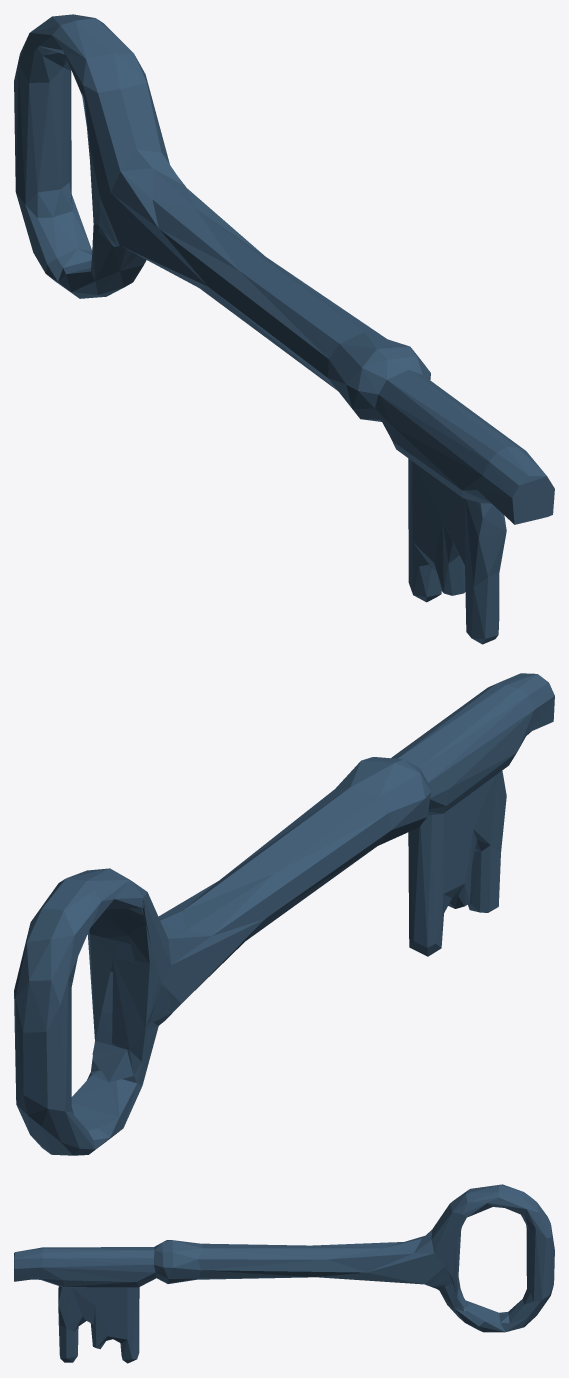
The model's file is chaveporta4.fbx.
3 renders of one model, top to bottom at view 1: azimuth 30°, elevation 25°; view 2: azimuth 150°, elevation 25°; view 3: azimuth 270°, elevation 25°, orthographic. The views are drawn at different scales.
Visible parts, largest first — view 1: chave3; view 2: chave3; view 3: chave3.
Part boxes in pixels (<box>): chave3: <box>14,14,554,644</box>; chave3: <box>14,673,554,1155</box>; chave3: <box>14,1184,554,1363</box>.
Bounding box in the file's own units: 0.2482 × 0.9879 × 2.75.
